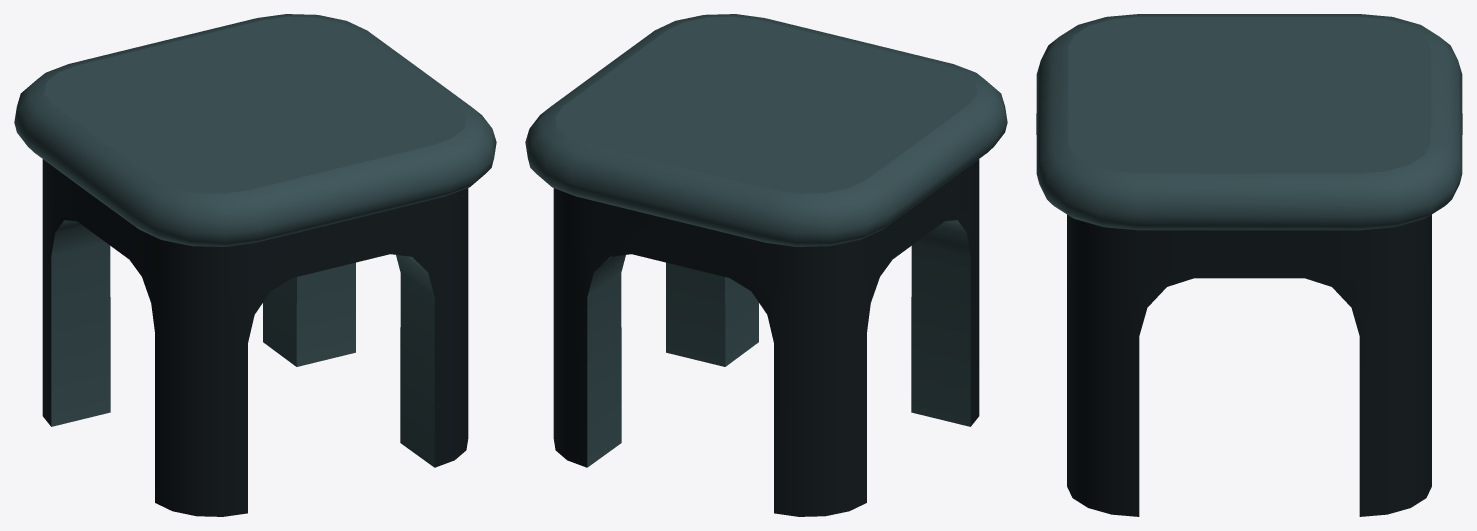
File: FI_036_stool.glb
The picture shows the model from 3 angles, left to right: view 1: azimuth 30°, elevation 25°; view 2: azimuth 150°, elevation 25°; view 3: azimuth 270°, elevation 25°; orthographic projection. The views are drawn at different scales.
Parts seen in each view (by area): view 1: stool; view 2: stool; view 3: stool.
Boxes of the visible parts, x1,y1,x2,y2 form: stool: (14,14,496,516); stool: (525,14,1007,516); stool: (1036,14,1462,516).
Bounding box in the file's own units: 0.7467 × 0.6493 × 0.7316.
